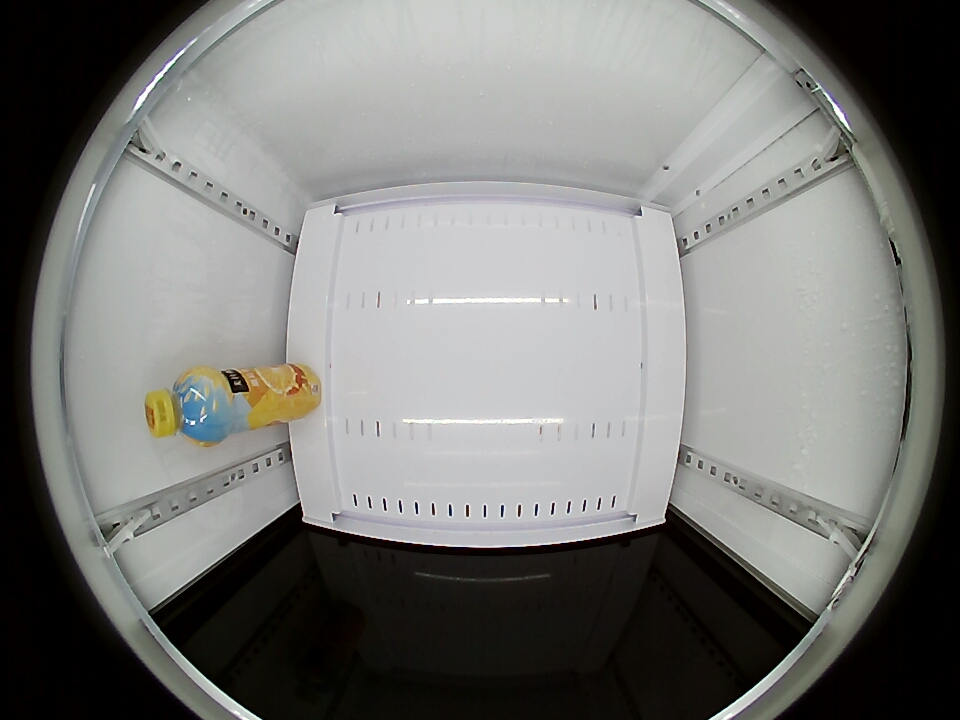guolicheng: (144, 366, 228, 446)
